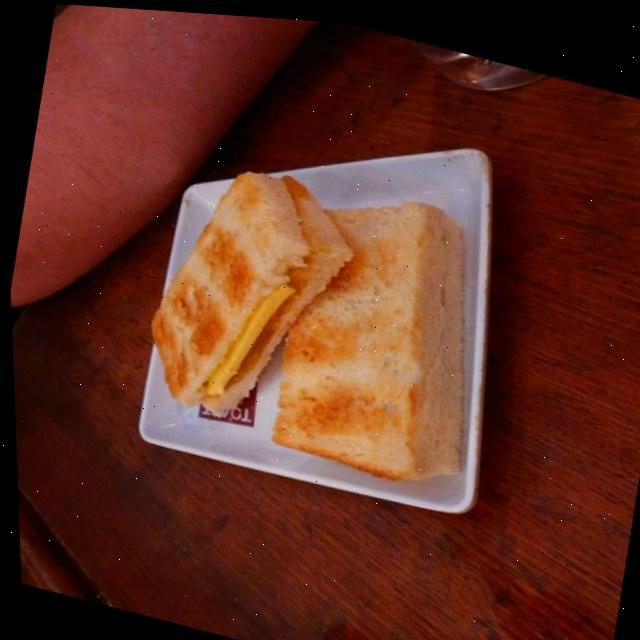面包点心: (62, 49, 586, 569)
